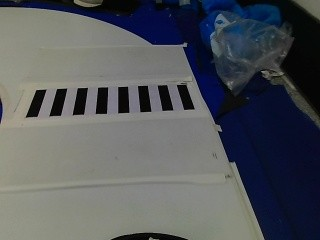crosswalk: (21, 79, 197, 117)
